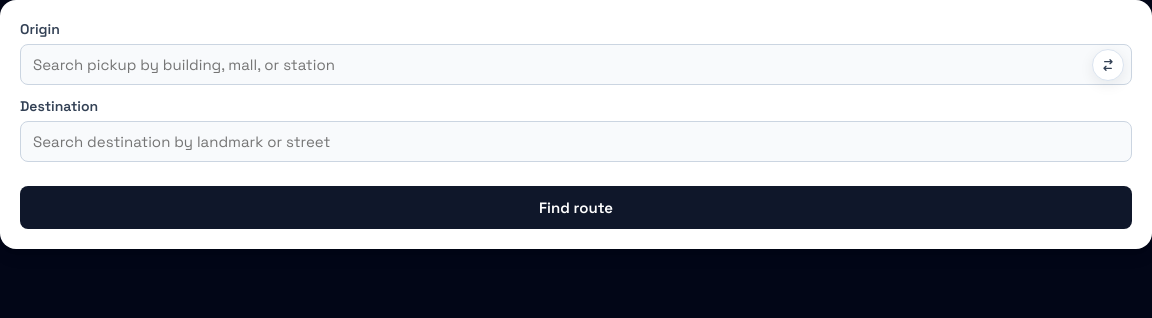
Test: AddressForm › shows validation when submitted empty
This screenshot has width=1152, height=318.
Click the button "Find route" at (576,208), box [20,186,1132,229]
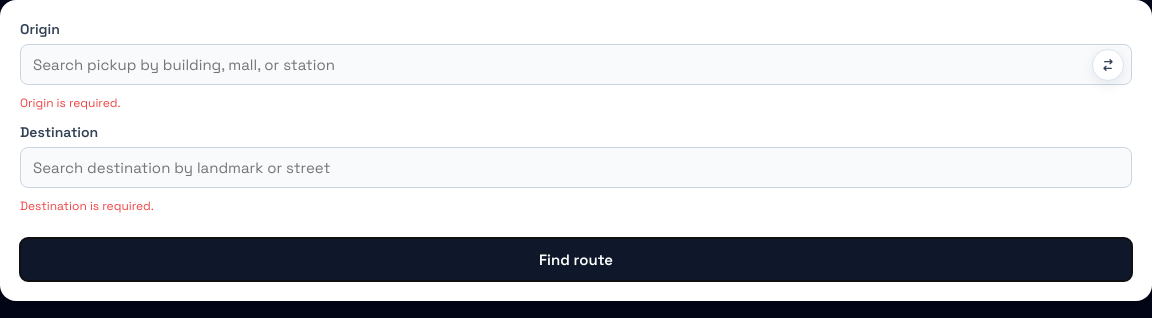
Expected: the text "Origin is required." is shown, [20,95,120,111]
Expected: the text "Destination is required." is shown, [20,198,154,214]
